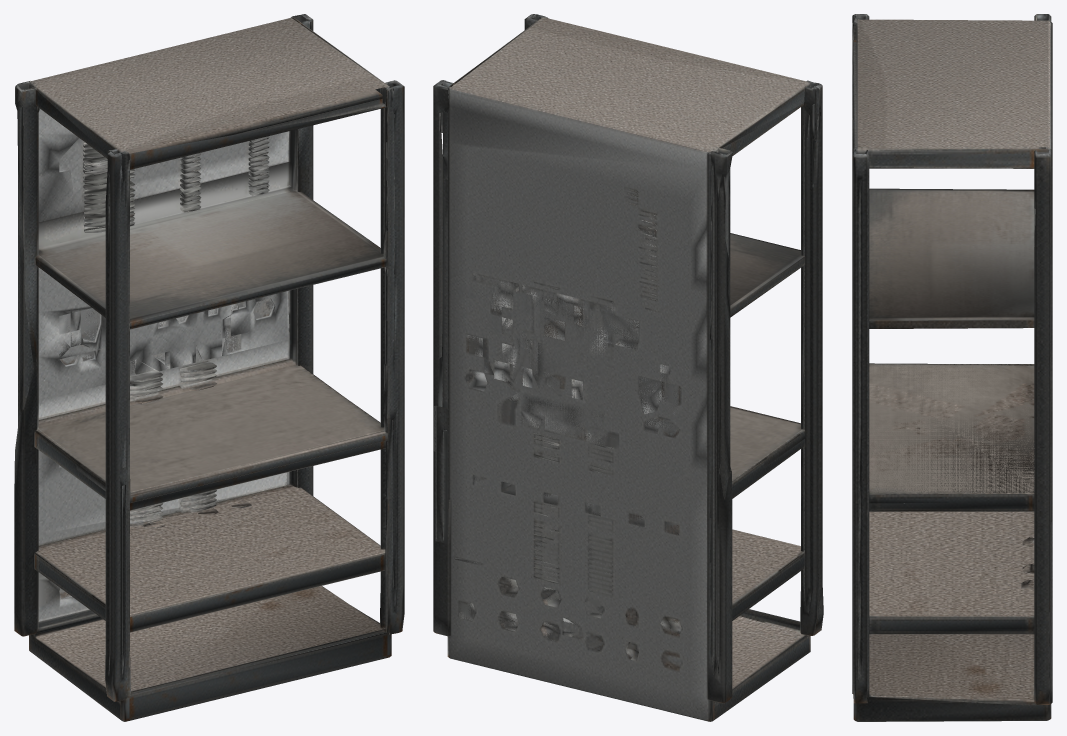
Rendered from MetalShelf.fbx.
3 renders of one model, left to right at view 1: azimuth 30°, elevation 25°; view 2: azimuth 150°, elevation 25°; view 3: azimuth 270°, elevation 25°, orthographic.
Visible parts, largest first — view 1: mesh_node; view 2: mesh_node; view 3: mesh_node.
Part boxes in pixels (left/top/right/bottom): mesh_node: left=14, top=14, right=404, bottom=721; mesh_node: left=433, top=14, right=823, bottom=721; mesh_node: left=852, top=14, right=1052, bottom=721.
Bounding box in the file's own units: 102 × 191 × 60.27.
1 material, 1 textured.
